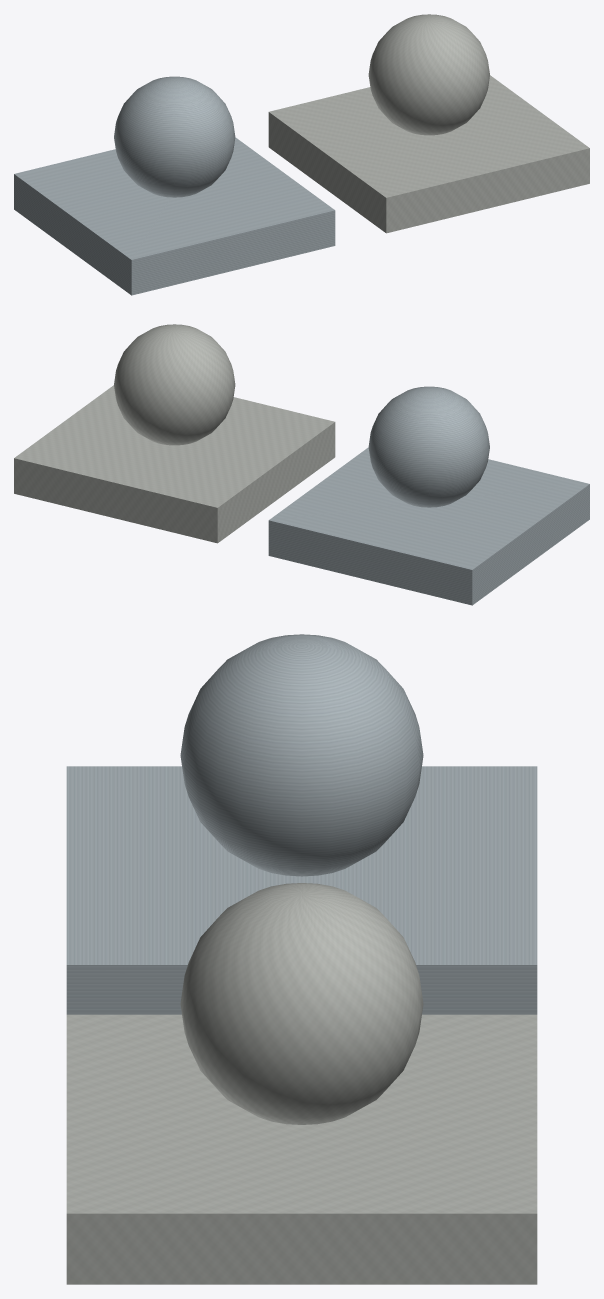
Rendered from landmark-material-study.glb.
3 views of the same model, one above another, from view 1: azimuth 30°, elevation 25°; view 2: azimuth 150°, elevation 25°; view 3: azimuth 270°, elevation 25° (orthographic). The views are drawn at different scales.
Parts seen in each view (by area): view 1: landmark-brushed-aluminum-coupon, landmark-pale-panel-coupon, landmark-brushed-aluminum-curvature, landmark-pale-panel-curvature; view 2: landmark-brushed-aluminum-coupon, landmark-pale-panel-coupon, landmark-brushed-aluminum-curvature, landmark-pale-panel-curvature; view 3: landmark-pale-panel-coupon, landmark-brushed-aluminum-coupon, landmark-brushed-aluminum-curvature, landmark-pale-panel-curvature.
Part boxes in pixels (x1,y1,x2,y2): landmark-brushed-aluminum-coupon: (14,137,335,295); landmark-pale-panel-coupon: (268,75,589,233); landmark-brushed-aluminum-curvature: (114,76,235,197); landmark-pale-panel-curvature: (368,14,489,135); landmark-brushed-aluminum-coupon: (268,447,589,605); landmark-pale-panel-coupon: (14,385,335,543); landmark-brushed-aluminum-curvature: (368,386,489,507); landmark-pale-panel-curvature: (114,324,235,445); landmark-pale-panel-coupon: (66,1014,537,1284); landmark-brushed-aluminum-coupon: (66,766,537,1014); landmark-brushed-aluminum-curvature: (180,634,423,876); landmark-pale-panel-curvature: (180,883,423,1124).
Bounding box in the file's own units: 2.7 × 0.82 × 1.2.
Materials: 2 (2 with a texture image).
